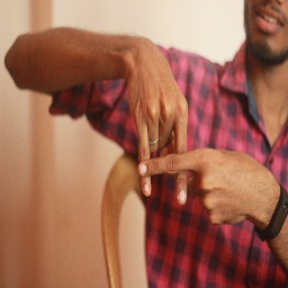H: (112, 99, 215, 209)
